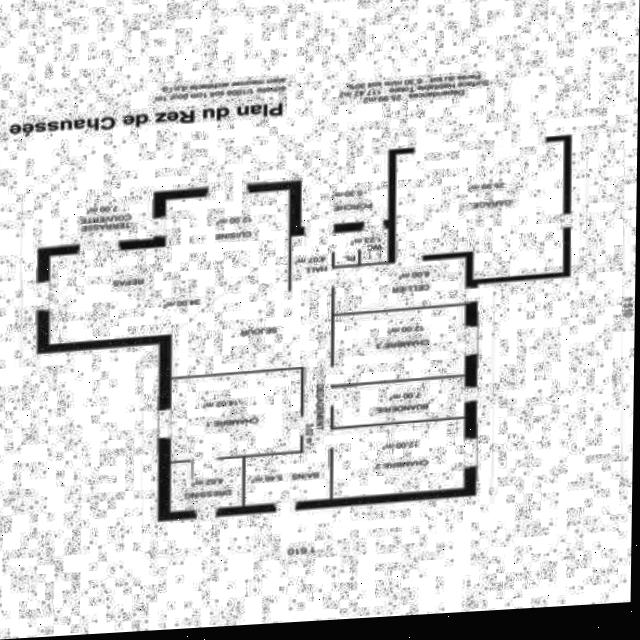room: (30, 184, 366, 384), (387, 140, 574, 284), (164, 367, 307, 460), (325, 304, 470, 384), (327, 417, 470, 497), (329, 252, 469, 313), (329, 375, 467, 426), (240, 447, 334, 504), (165, 454, 246, 510), (302, 365, 331, 450), (357, 227, 391, 263)
